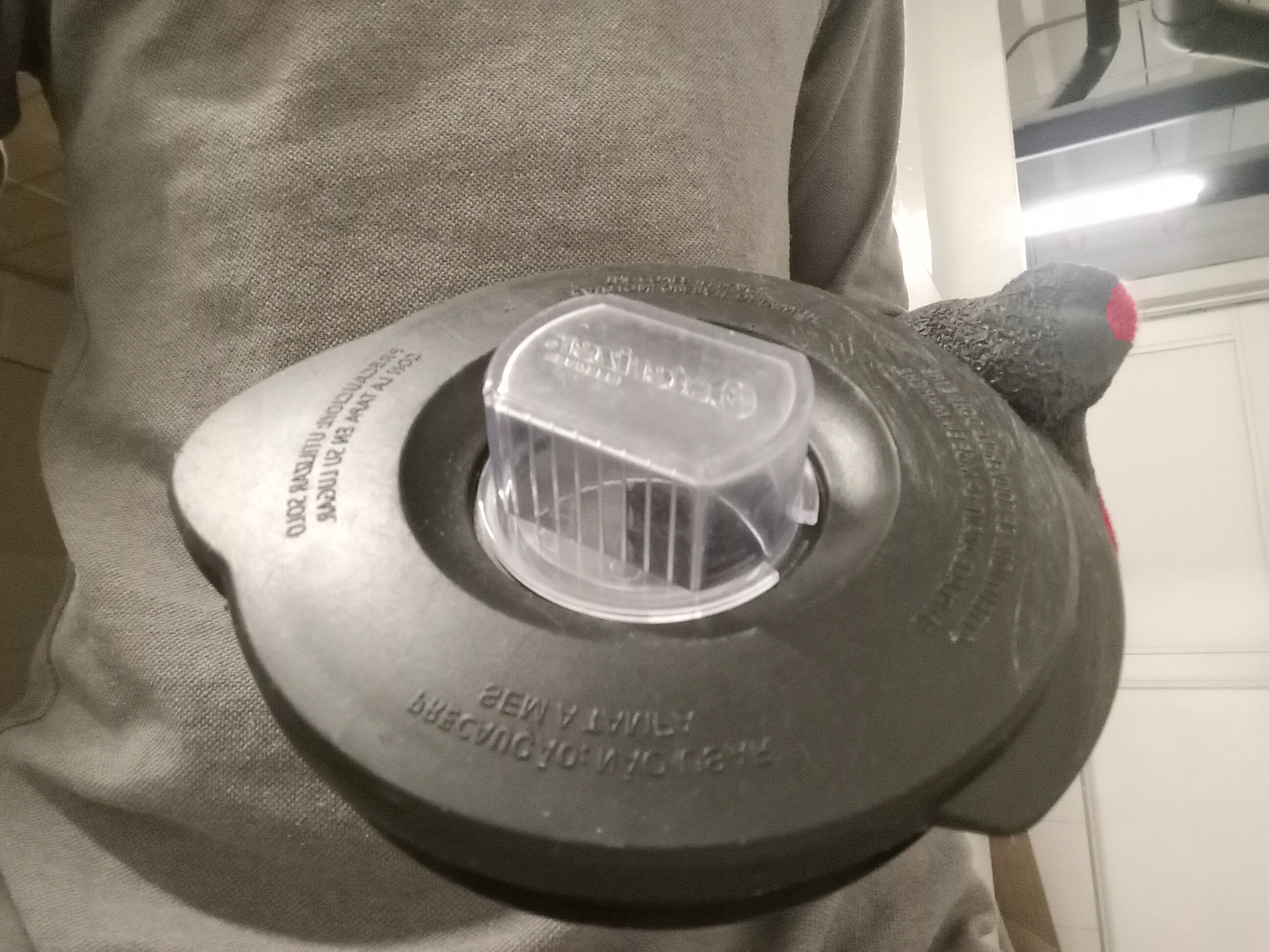Ordinario: (166, 264, 1124, 927)
